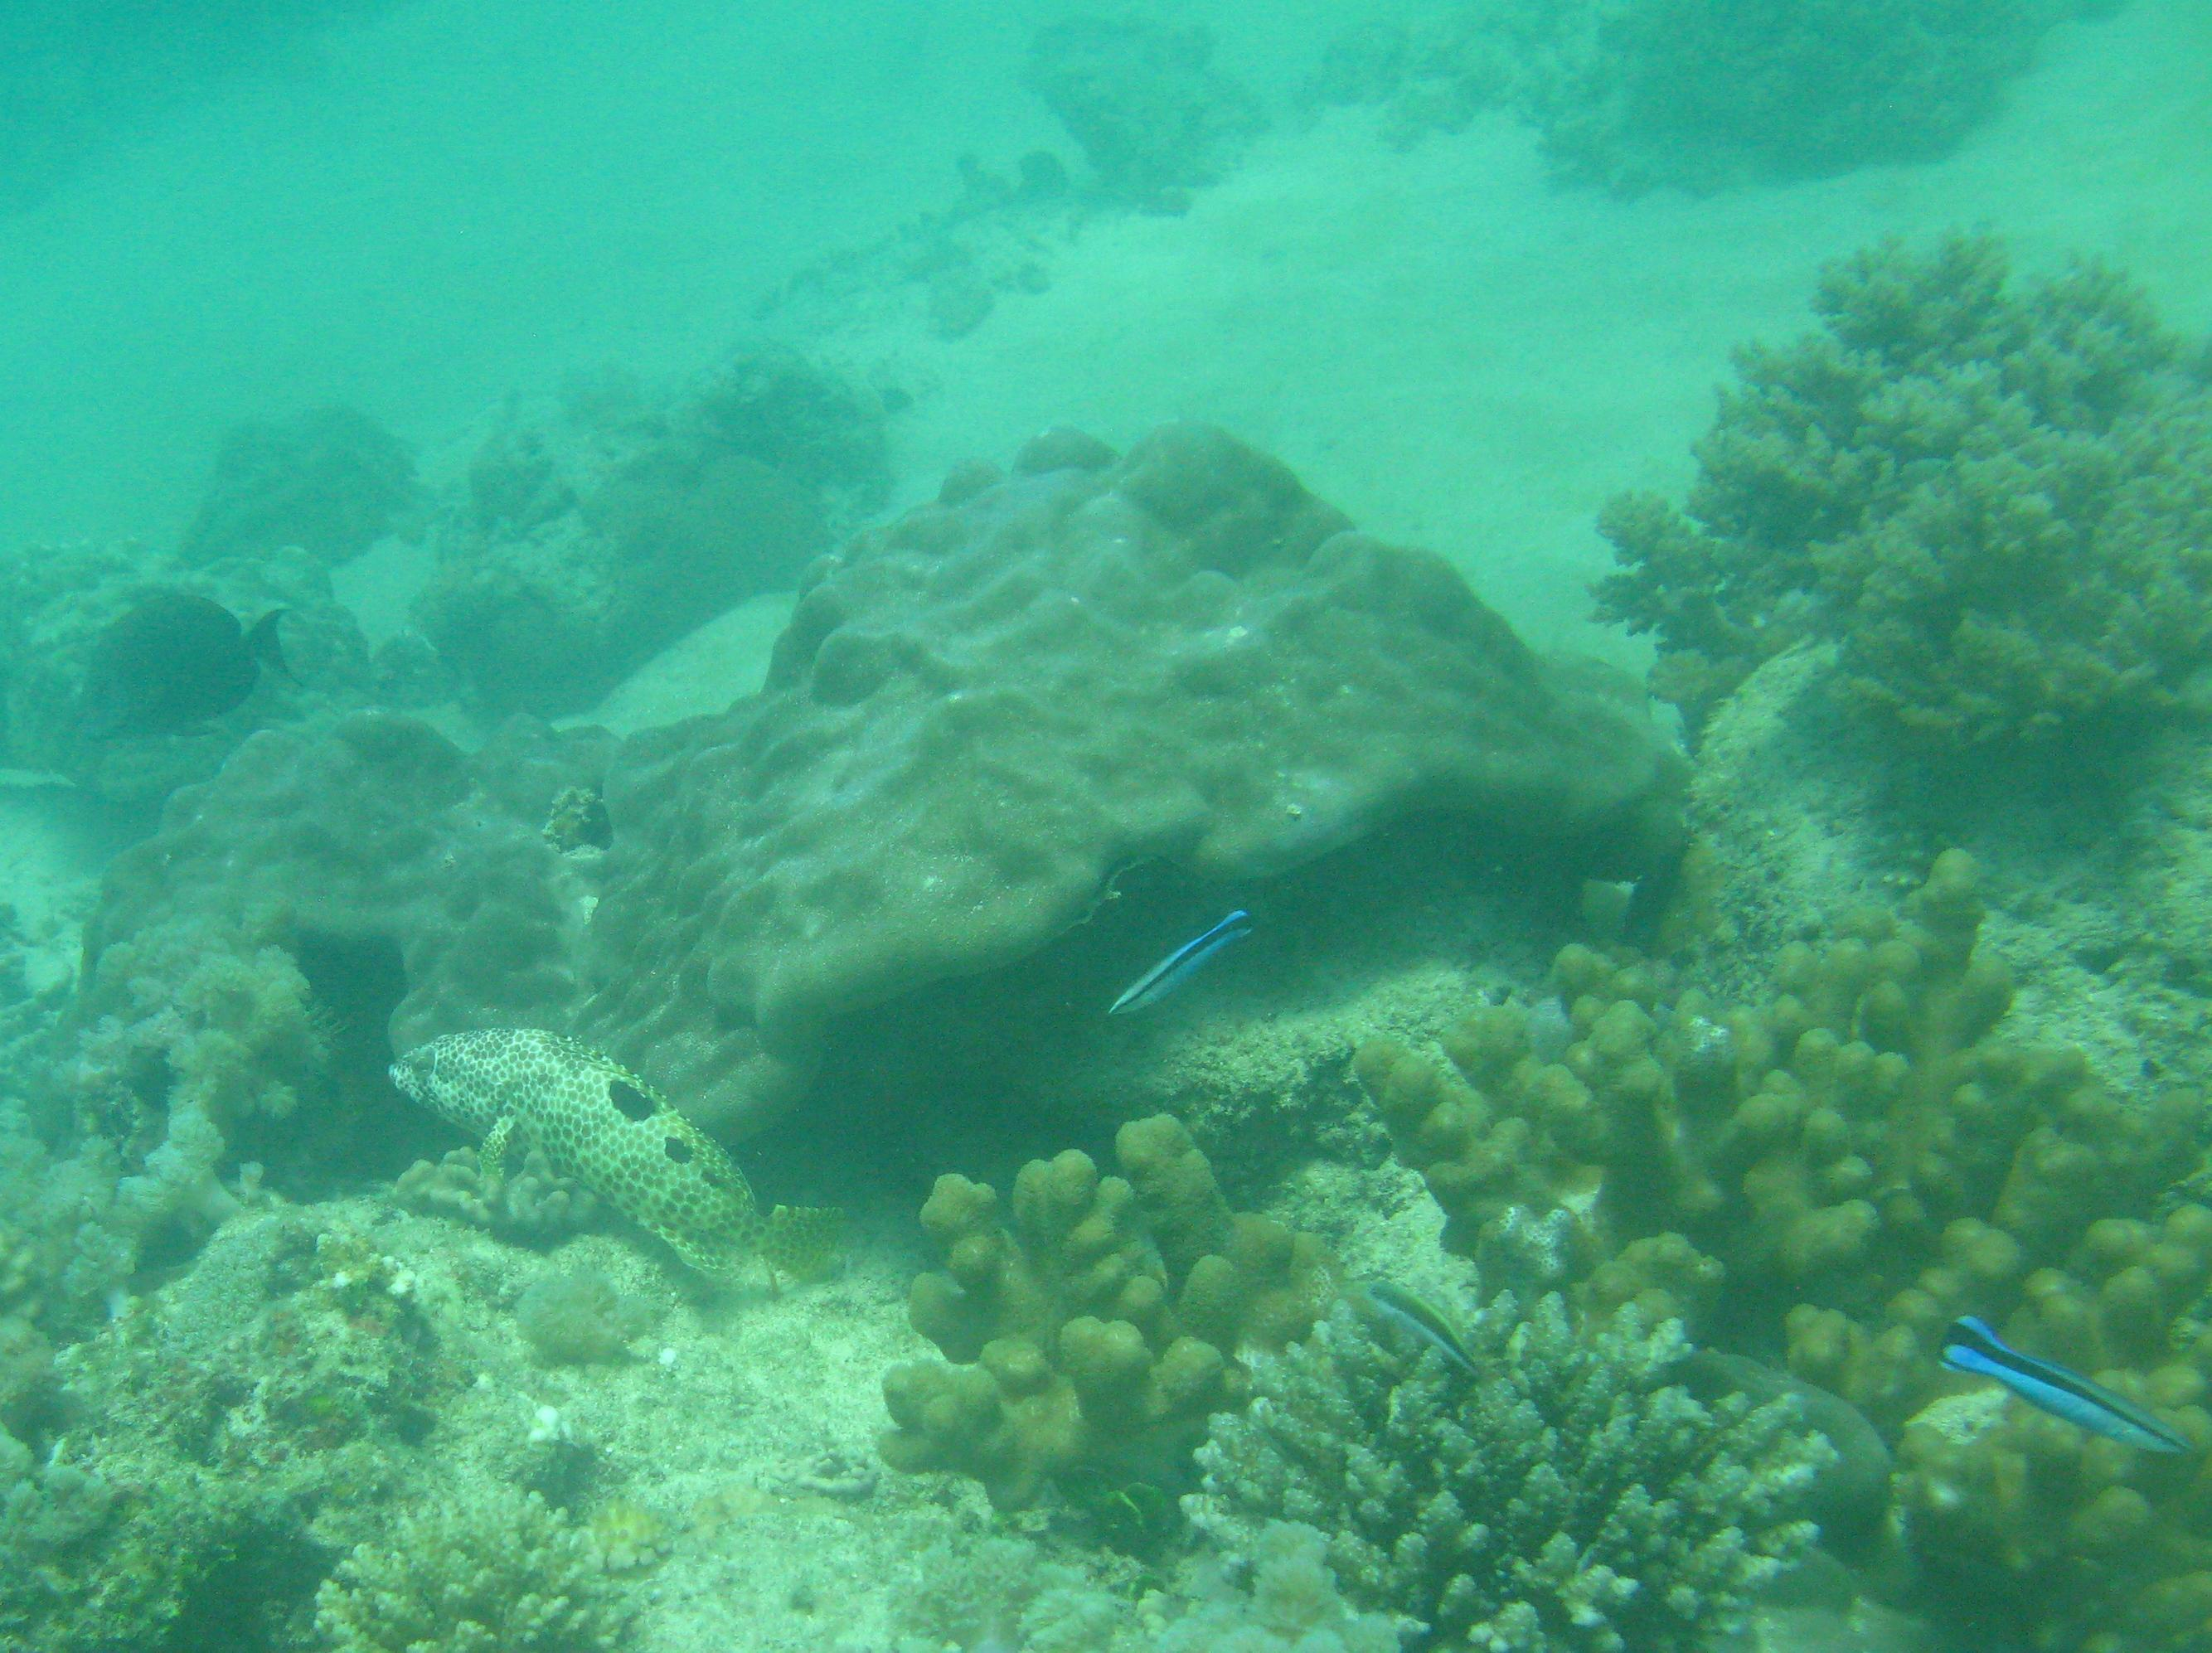Fish: (356, 997, 873, 1302)
